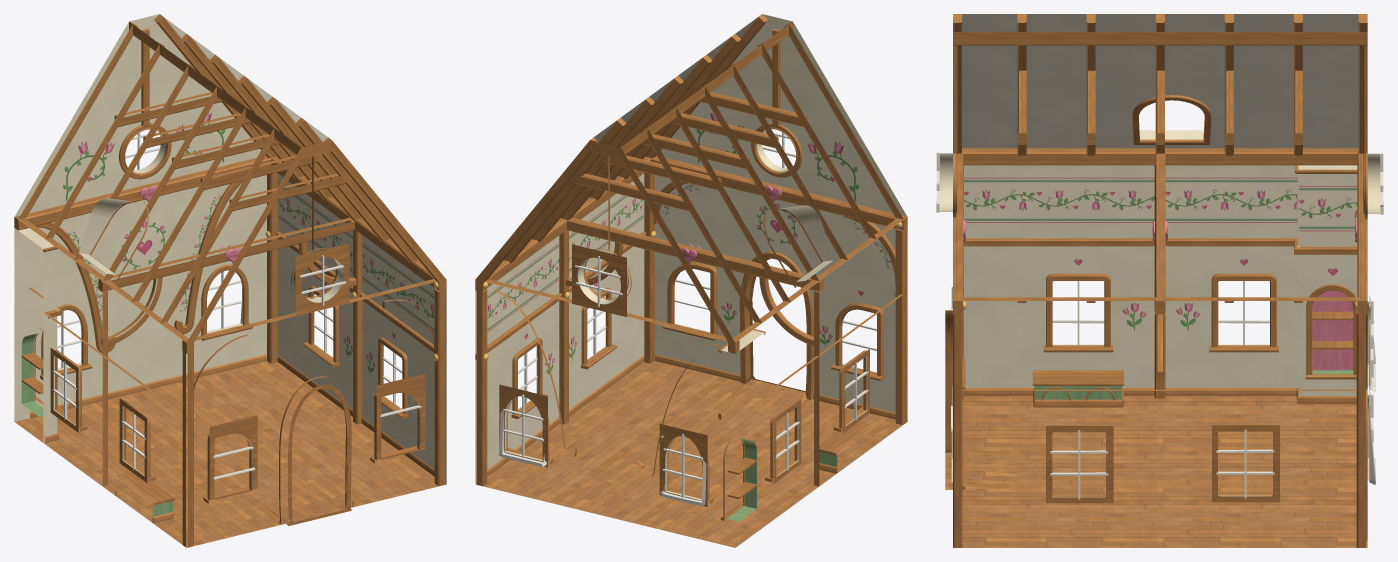
File: house_a_lining.glb
3 views of the same model, side by side, from view 1: azimuth 30°, elevation 25°; view 2: azimuth 150°, elevation 25°; view 3: azimuth 270°, elevation 25° (orthographic). The views are drawn at different scales.
Parts seen in each view (by area): view 1: Architecture_Timber, Architecture_Walls, Architecture_Floor, Architecture_Paint, Architecture_Decals, Architecture_Ceiling; view 2: Architecture_Timber, Architecture_Walls, Architecture_Floor, Architecture_Paint, Architecture_Decals, Architecture_Ceiling; view 3: Architecture_Walls, Architecture_Timber, Architecture_Floor, Architecture_Ceiling, Architecture_Paint, Architecture_Decals.
Boxes of the visible parts, left/top/right/bottom form: Architecture_Timber: left=14, top=14, right=446, bottom=547; Architecture_Walls: left=14, top=14, right=446, bottom=488; Architecture_Floor: left=15, top=361, right=445, bottom=547; Architecture_Paint: left=21, top=131, right=438, bottom=516; Architecture_Decals: left=63, top=113, right=434, bottom=375; Architecture_Ceiling: left=164, top=17, right=327, bottom=141; Architecture_Timber: left=475, top=14, right=907, bottom=537; Architecture_Walls: left=475, top=14, right=907, bottom=500; Architecture_Floor: left=476, top=361, right=902, bottom=547; Architecture_Paint: left=483, top=130, right=902, bottom=521; Architecture_Decals: left=487, top=113, right=892, bottom=375; Architecture_Ceiling: left=594, top=17, right=757, bottom=141; Architecture_Walls: left=939, top=130, right=1380, bottom=497; Architecture_Timber: left=945, top=14, right=1367, bottom=547; Architecture_Floor: left=945, top=396, right=1367, bottom=547; Architecture_Ceiling: left=962, top=14, right=1358, bottom=148; Architecture_Paint: left=936, top=152, right=1383, bottom=499; Architecture_Decals: left=964, top=177, right=1357, bottom=330.
Size of what is drawn, in the model's own units: 6.03 by 8.14 by 7.34.
6 materials, 6 textured.
